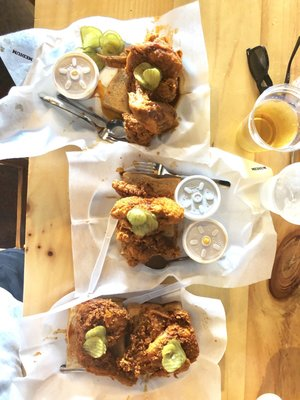sandwich: (39, 94, 115, 142)
